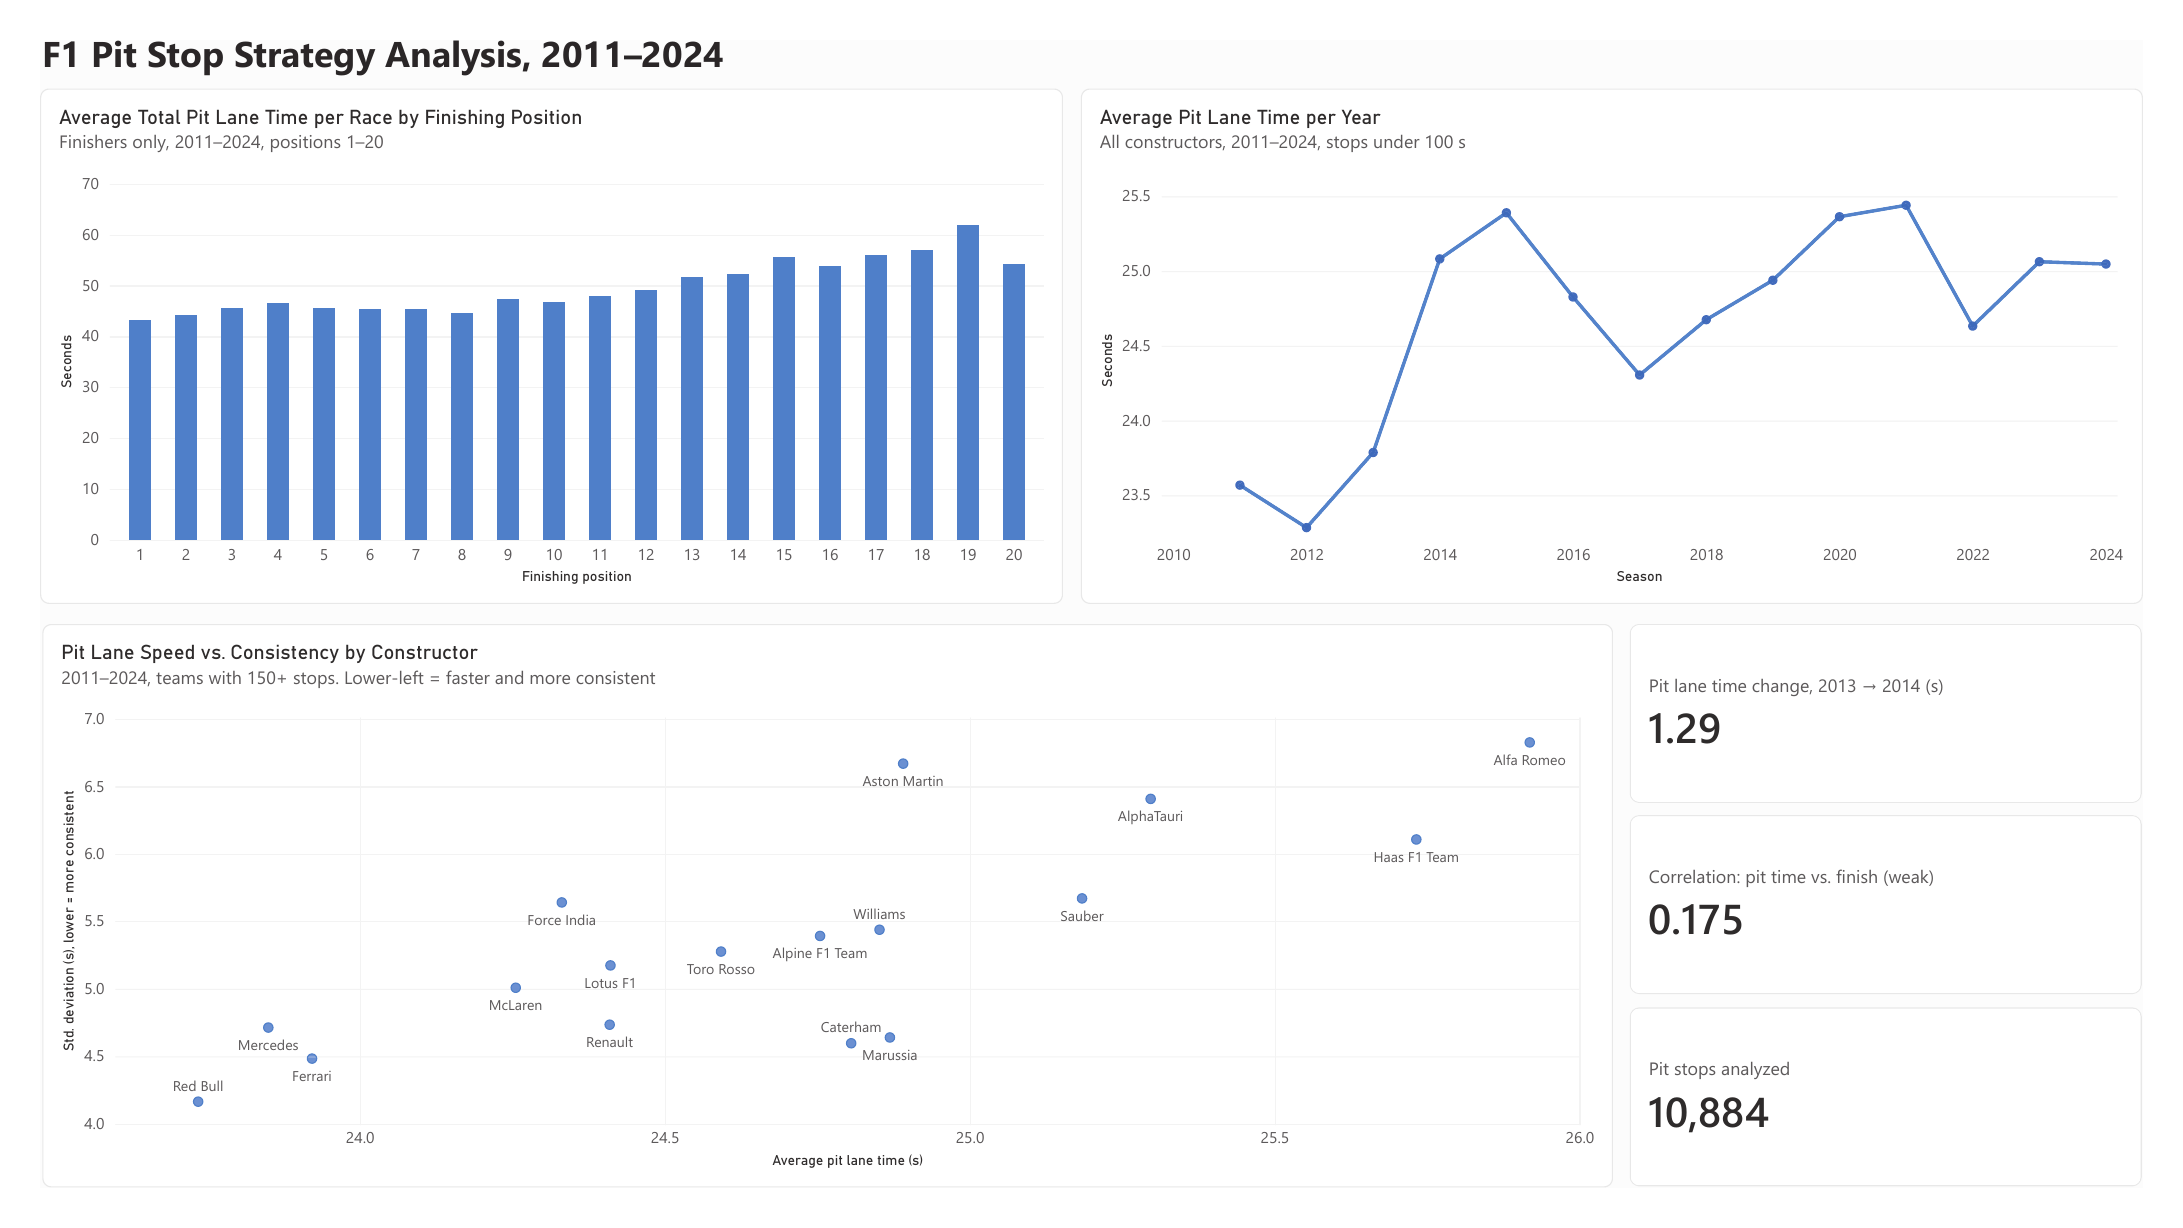

What the dashboard file says about the page in this screenshot:
{"tool":"powerbi","page":{"name":"Page 1","canvas":[1920,1080],"ordinal":0},"visuals":[{"type":"clusteredColumnChart","title":"Average Total Pit Lane Time per Race by Finishing Position","fields":{"Category":["vw_driver_race_pit_times.position"],"Y":["vw_driver_race_pit_times.Avg Pit Time (s)"]},"box":[28.3,78.3,915.2,460.9],"z":0},{"type":"lineChart","title":"Average Pit Lane Time per Year","fields":{"Category":["vw_constructor_year_stats.year"],"Y":["vw_constructor_year_stats.Avg Stop Time (s)"]},"box":[958.7,78.3,950,460.9],"z":1000},{"type":"scatterChart","title":"Pit Lane Speed vs. Consistency by Constructor","fields":{"Category":["vw_constructor_stats.constructor"],"X":["vw_constructor_stats.Team Avg Pit Lane Time (s)"],"Y":["vw_constructor_stats.Team Pit Lane Std Dev (s)"]},"box":[30.4,556.5,1404.3,504.3],"z":2000},{"type":"cardVisual","fields":{"Data":["vw_constructor_year_stats.Pit Stops Analyzed (Label)"]},"box":[1450,900,458.7,160.9],"z":3000},{"type":"cardVisual","fields":{"Data":["vw_driver_race_pit_times.Corr Pit Time vs Position"]},"box":[1450,728.3,458.7,160.9],"z":4000},{"type":"cardVisual","fields":{"Data":["vw_constructor_stats.Pit Lane Jump 2013 to 2014 (s)"]},"box":[1450,556.5,458.7,160.9],"z":5000},{"type":"textbox","box":[100,100,300,300],"z":6000},{"type":"textbox","box":[100,100,300,300],"z":7000},{"type":"textbox","box":[30.4,23.9,737,54.3],"z":8000}]}

Visuals, with their boxes in screenshot pixels (x1, y1, x2, y2), scaled from the page's 1920x1080 canvas onto the 2183x1228 screenshot:
"Average Total Pit Lane Time per Race by Finishing Position" clusteredColumnChart: <box>32,89,1073,613</box>
"Average Pit Lane Time per Year" lineChart: <box>1090,89,2170,613</box>
"Pit Lane Speed vs. Consistency by Constructor" scatterChart: <box>35,633,1631,1206</box>
cardVisual - vw_constructor_year_stats.Pit Stops Analyzed (Label): <box>1649,1023,2170,1206</box>
cardVisual - vw_driver_race_pit_times.Corr Pit Time vs Position: <box>1649,828,2170,1011</box>
cardVisual - vw_constructor_stats.Pit Lane Jump 2013 to 2014 (s): <box>1649,633,2170,816</box>
textbox: <box>114,114,455,455</box>
textbox: <box>114,114,455,455</box>
textbox: <box>35,27,873,89</box>
